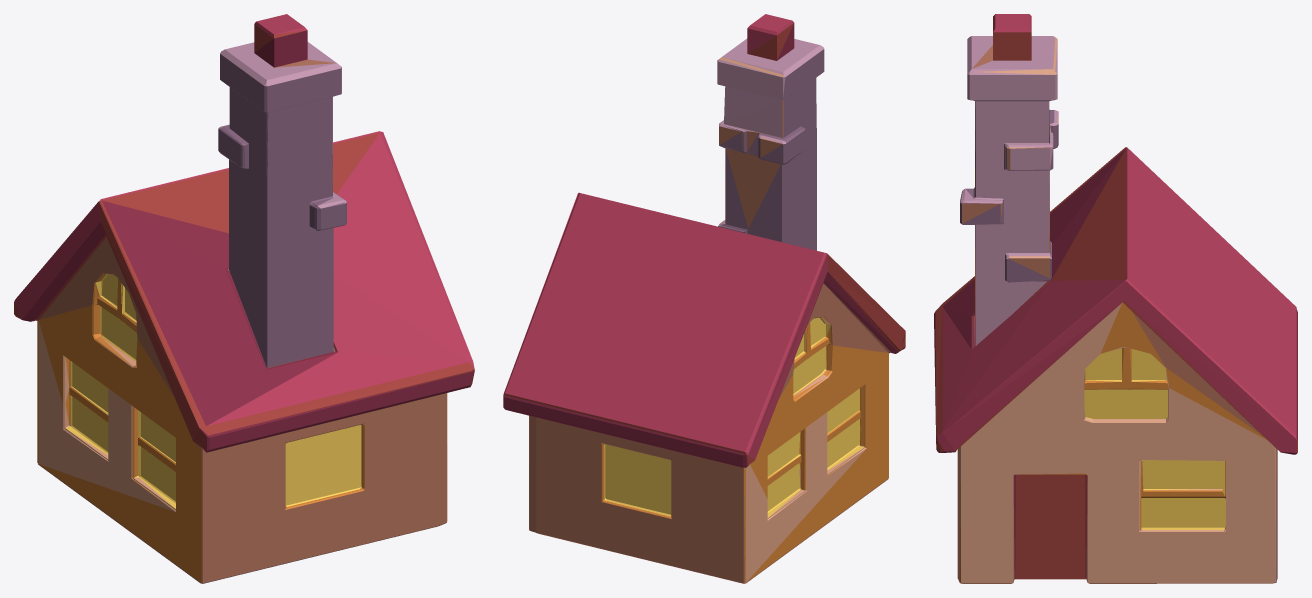
The model's file is house2.glb.
3 renders of one model, left to right at view 1: azimuth 30°, elevation 25°; view 2: azimuth 150°, elevation 25°; view 3: azimuth 270°, elevation 25°, orthographic. The views are drawn at different scales.
Parts seen in each view (by area): view 1: #B9765E, #8E6A86, #B8405E, #8A2E48, #E08A3A, #A8443F, #FFD45C, #E9A989, #C495B0; view 2: #B8405E, #B9765E, #E08A3A, #8E6A86, #FFD45C, #E9A989, #C495B0, #8A2E48, #A8443F; view 3: #E9A989, #B8405E, #C495B0, #A8443F, #FFD45C, #8A2E48, #E08A3A, #B9765E, #8E6A86.
Part boxes in pixels (x1=…): #B9765E: x1=38, y1=59, x2=446, y2=583; #8E6A86: x1=203, y1=54, x2=383, y2=583; #B8405E: x1=14, y1=14, x2=474, y2=425; #8A2E48: x1=15, y1=30, x2=474, y2=452; #E08A3A: x1=37, y1=273, x2=447, y2=582; #A8443F: x1=14, y1=24, x2=474, y2=448; #FFD45C: x1=65, y1=274, x2=361, y2=508; #E9A989: x1=38, y1=321, x2=447, y2=511; #C495B0: x1=218, y1=42, x2=346, y2=208; #B8405E: x1=503, y1=14, x2=827, y2=460; #B9765E: x1=529, y1=100, x2=890, y2=583; #E08A3A: x1=601, y1=317, x2=888, y2=582; #8E6A86: x1=718, y1=49, x2=824, y2=250; #FFD45C: x1=604, y1=317, x2=863, y2=517; #E9A989: x1=529, y1=57, x2=866, y2=582; #C495B0: x1=529, y1=38, x2=824, y2=529; #8A2E48: x1=503, y1=23, x2=905, y2=467; #A8443F: x1=503, y1=23, x2=905, y2=465; #E9A989: x1=960, y1=37, x2=1276, y2=583; #B8405E: x1=937, y1=14, x2=1296, y2=452; #C495B0: x1=960, y1=36, x2=1276, y2=583; #A8443F: x1=935, y1=14, x2=1297, y2=580; #FFD45C: x1=1084, y1=348, x2=1225, y2=529; #8A2E48: x1=934, y1=149, x2=1297, y2=578; #E08A3A: x1=960, y1=302, x2=1275, y2=583; #B9765E: x1=957, y1=45, x2=1277, y2=583; #8E6A86: x1=960, y1=100, x2=1058, y2=346.
Bounding box in the file's own units: 0.5812 × 1 × 0.6634.
